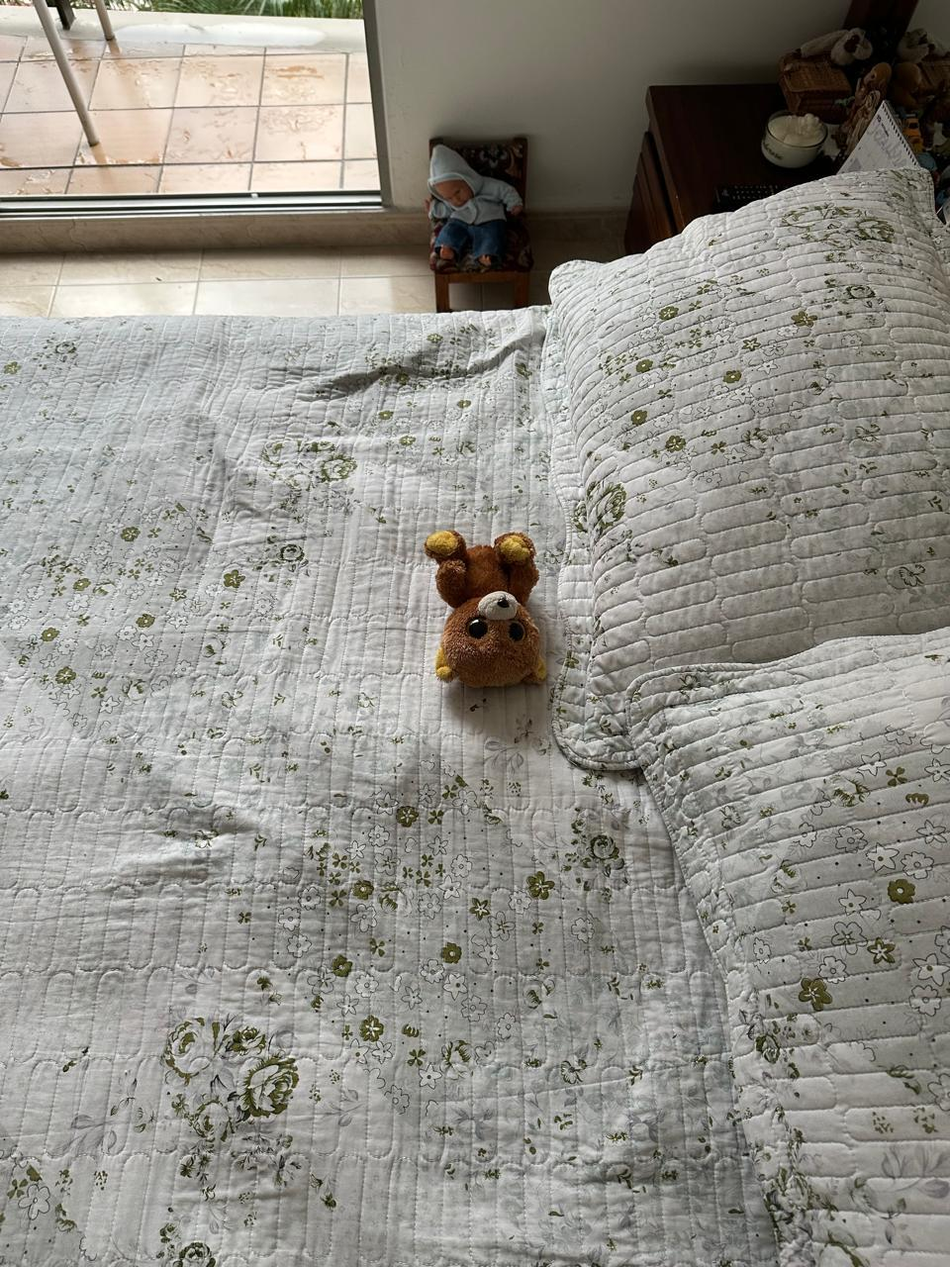peluche_sebastian: (421, 530, 557, 690)
